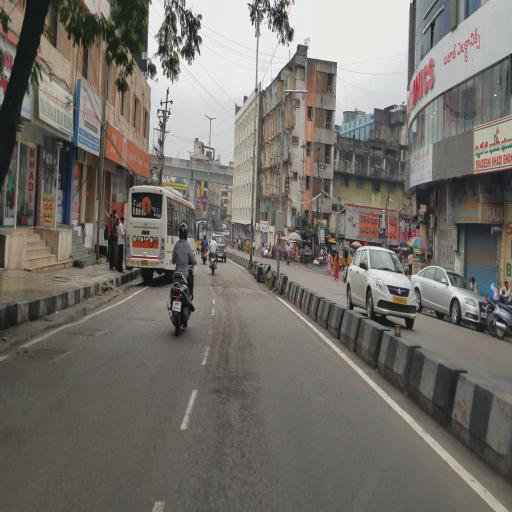street_light_0: (209, 109, 217, 127), (202, 111, 210, 129)
